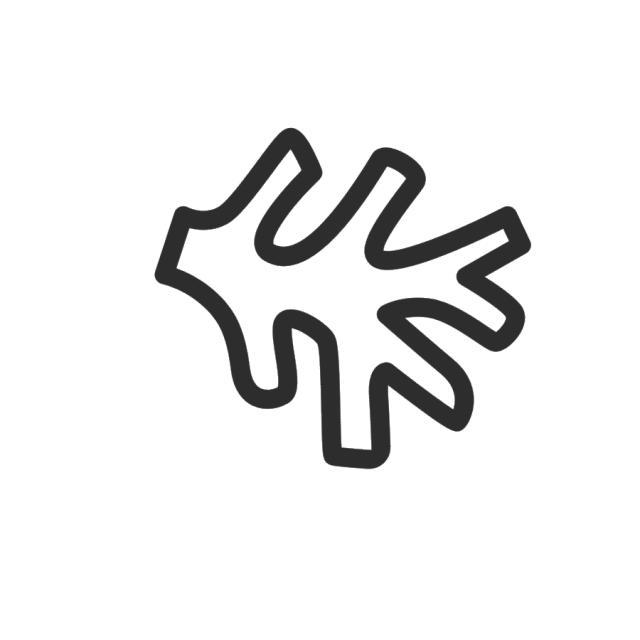coral: (148, 126, 540, 480)
